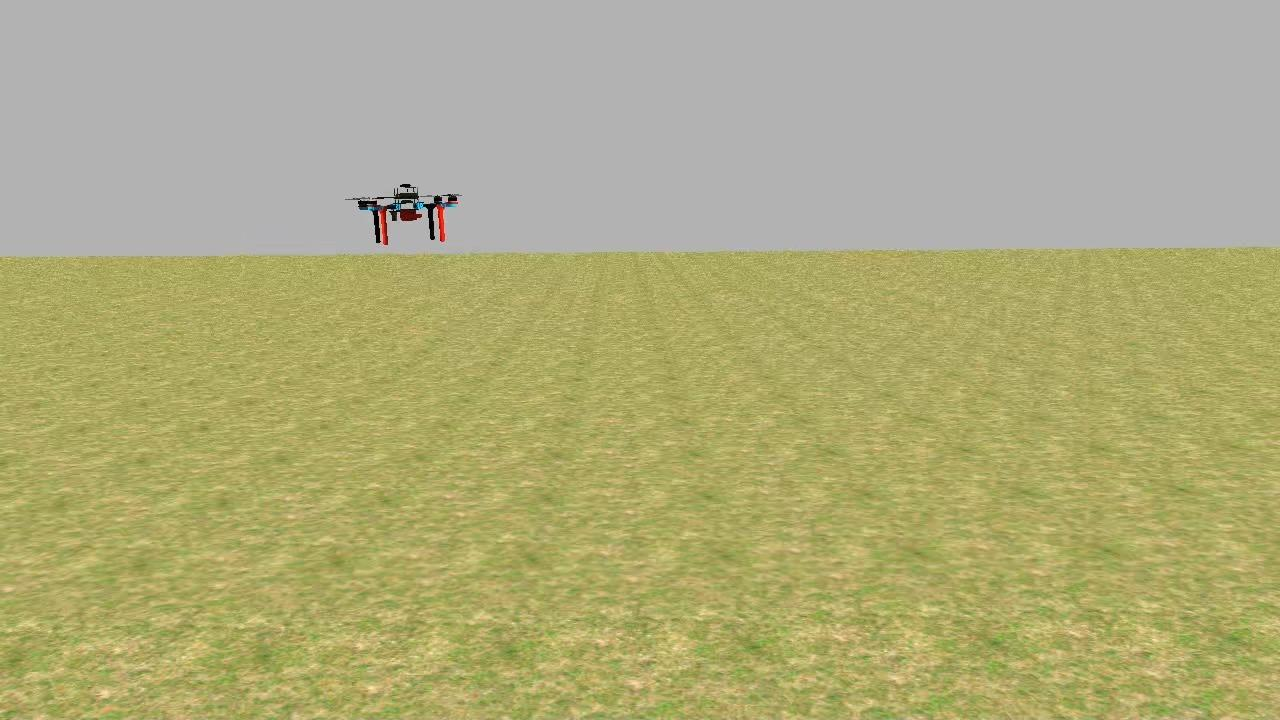UAV: (354, 180, 462, 250)
